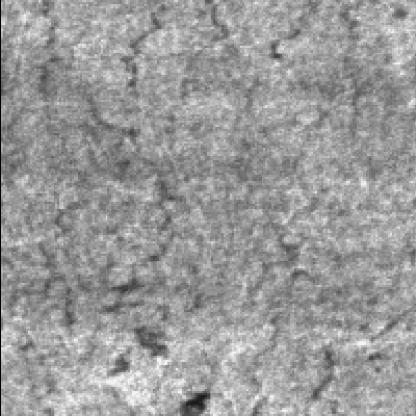crazing: (6, 0, 147, 376), (200, 0, 360, 322), (87, 0, 231, 318), (243, 262, 337, 414)
